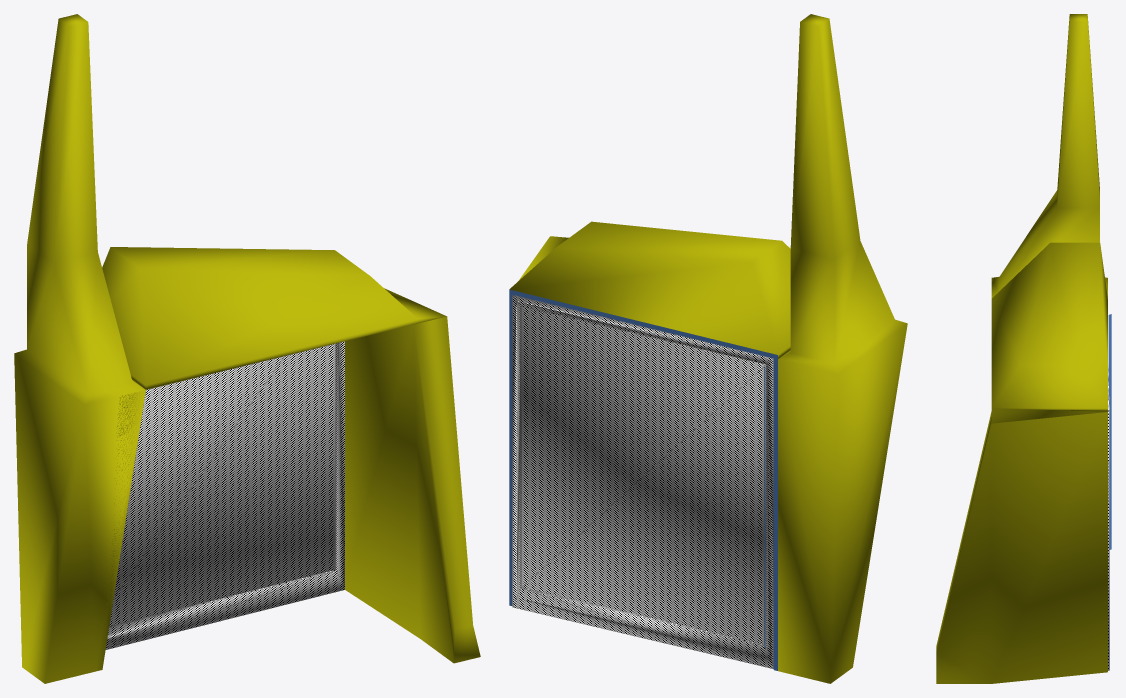
Rendered from Obj_monde_jaune_01.obj.
3 views of the same model, side by side, from view 1: azimuth 30°, elevation 25°; view 2: azimuth 150°, elevation 25°; view 3: azimuth 270°, elevation 25° (orthographic). The views are drawn at different scales.
Parts seen in each view (by area): view 1: montant, porte_; view 2: porte_, montant, cadre; view 3: montant, cadre, porte_.
Boxes of the visible parts, box(x1,y1,x2,y2) form: montant: box(14, 14, 480, 683); porte_: box(105, 341, 344, 649); porte_: box(512, 295, 773, 668); montant: box(509, 14, 907, 683); cadre: box(509, 289, 777, 670); montant: box(936, 14, 1107, 683); cadre: box(1108, 314, 1111, 549); porte_: box(1108, 365, 1109, 670).
Size of the model in its own units: 212 by 364 by 108.
3 materials, 2 textured.
